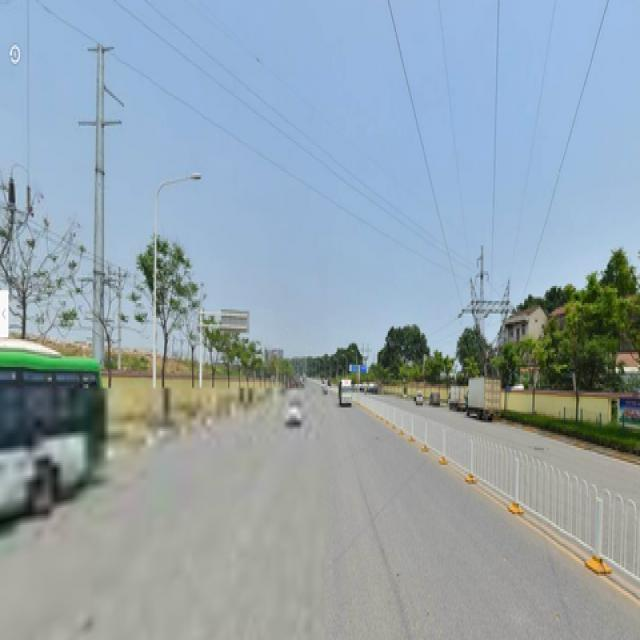koel: (148, 248, 175, 386), (182, 301, 198, 382), (208, 324, 223, 380)
